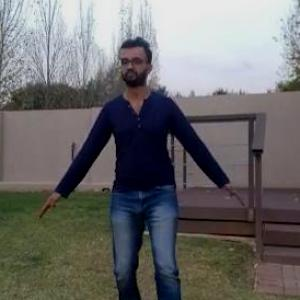land: (30, 27, 247, 299)
